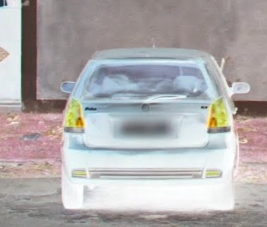car: (60, 48, 250, 211)
